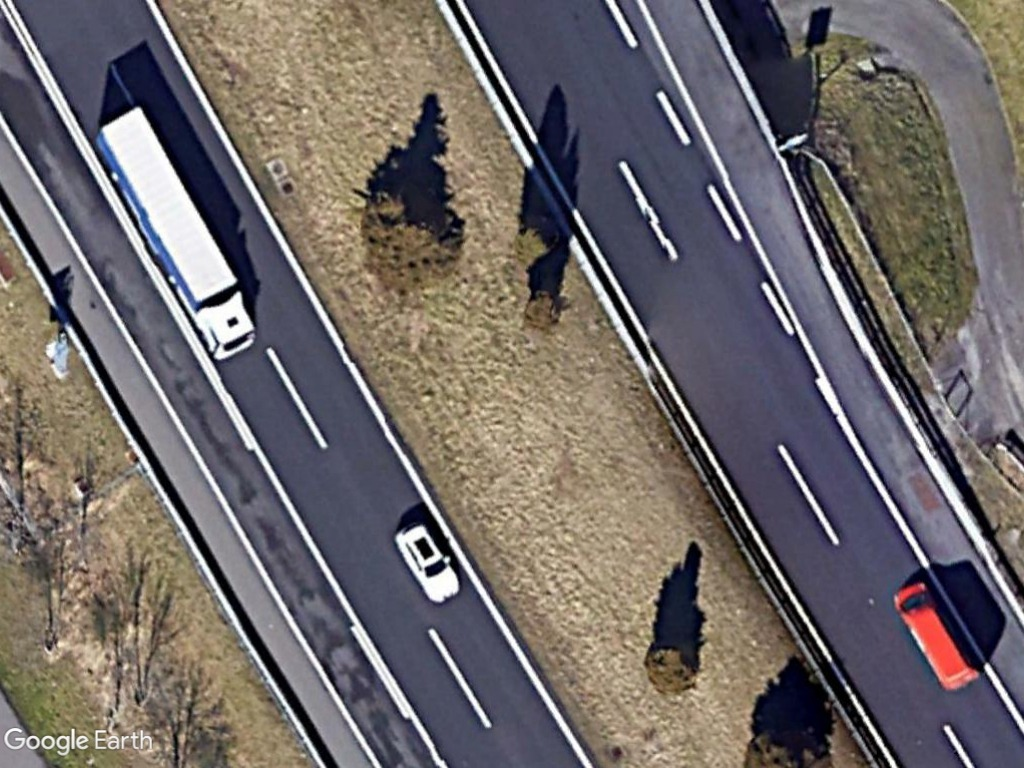car: (393, 515, 463, 607)
longvehicle: (94, 103, 262, 365)
van: (889, 574, 983, 696)
